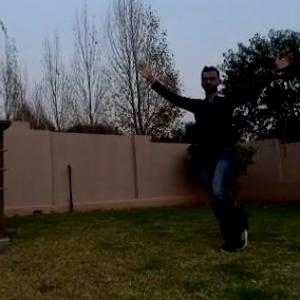takeoff: (171, 63, 299, 251)
